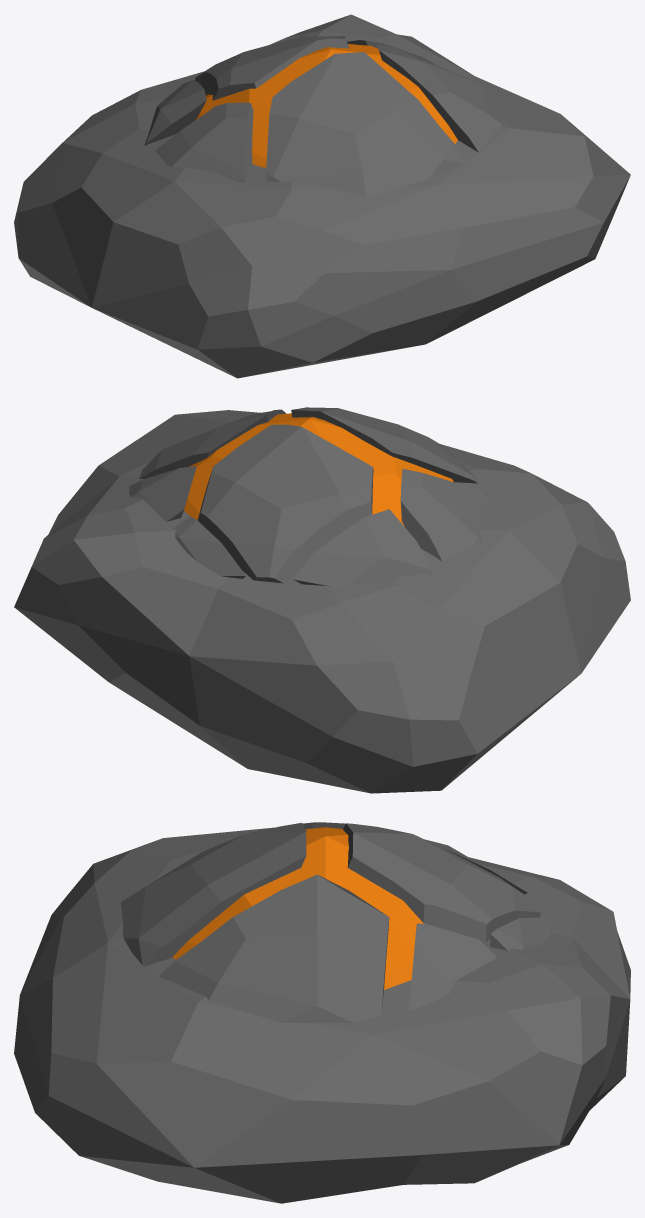
The model's file is AsteroidPoint2.fbx.
3 renders of one model, top to bottom at view 1: azimuth 30°, elevation 25°; view 2: azimuth 150°, elevation 25°; view 3: azimuth 270°, elevation 25°, orthographic. The views are drawn at different scales.
Visible parts, largest first — view 1: Rock, Icosphere_cell.006, Icosphere_cell.003, Icosphere_cell.009, Core, Icosphere_cell, Icosphere_cell.007; view 2: Rock, Icosphere_cell, Icosphere_cell.007, Icosphere_cell.003, Core, Icosphere_cell.006, Icosphere_cell.009, Icosphere_cell.004, Icosphere_cell.008; view 3: Rock, Icosphere_cell.009, Icosphere_cell.006, Icosphere_cell, Core, Icosphere_cell.004, Icosphere_cell.008.
Part boxes in pixels (bbox=[...]): Rock: bbox=[14, 14, 630, 378]; Icosphere_cell.006: bbox=[266, 52, 466, 197]; Icosphere_cell.003: bbox=[155, 102, 253, 182]; Icosphere_cell.009: bbox=[376, 44, 503, 152]; Core: bbox=[194, 44, 457, 167]; Icosphere_cell: bbox=[195, 35, 348, 100]; Icosphere_cell.007: bbox=[144, 79, 206, 145]; Rock: bbox=[14, 410, 630, 793]; Icosphere_cell: bbox=[197, 424, 373, 583]; Icosphere_cell.007: bbox=[293, 509, 432, 587]; Icosphere_cell.003: bbox=[400, 468, 488, 561]; Core: bbox=[184, 413, 453, 526]; Icosphere_cell.006: bbox=[291, 407, 476, 483]; Icosphere_cell.009: bbox=[139, 409, 285, 478]; Icosphere_cell.004: bbox=[129, 466, 196, 521]; Icosphere_cell.008: bbox=[173, 516, 245, 578]; Rock: bbox=[14, 827, 630, 1203]; Icosphere_cell.009: bbox=[158, 874, 389, 1023]; Icosphere_cell.006: bbox=[121, 822, 306, 966]; Icosphere_cell: bbox=[343, 823, 540, 943]; Core: bbox=[172, 827, 424, 989]; Icosphere_cell.004: bbox=[409, 923, 496, 1011]; Icosphere_cell.008: bbox=[490, 917, 550, 950].
Size of the model in its own units: 3.14 by 1.59 by 2.73.
